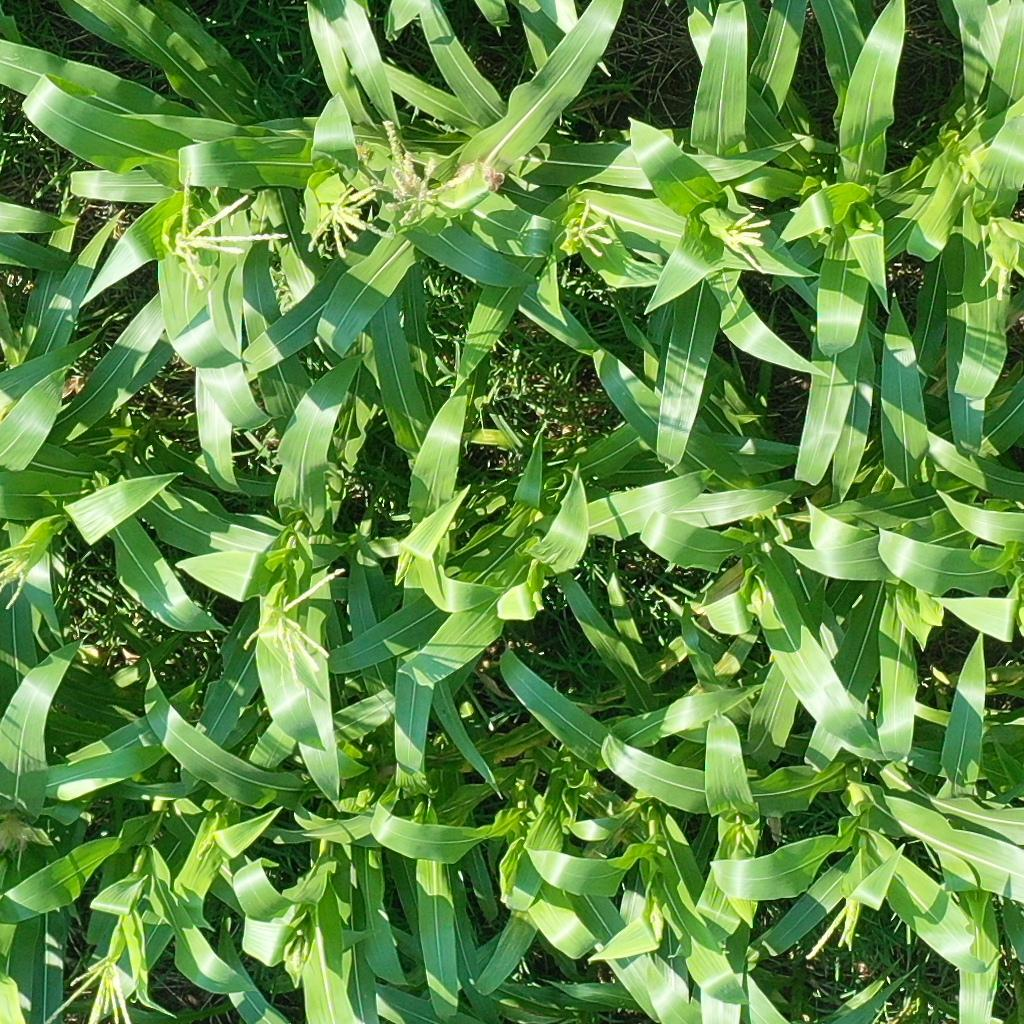Tassel: (161, 165, 290, 291), (240, 562, 349, 691), (373, 121, 478, 227), (300, 183, 399, 263), (41, 960, 137, 1024), (718, 206, 774, 276), (801, 891, 857, 959), (973, 244, 1023, 300), (567, 198, 613, 258), (1, 545, 36, 612), (287, 929, 309, 975), (645, 897, 666, 944)
